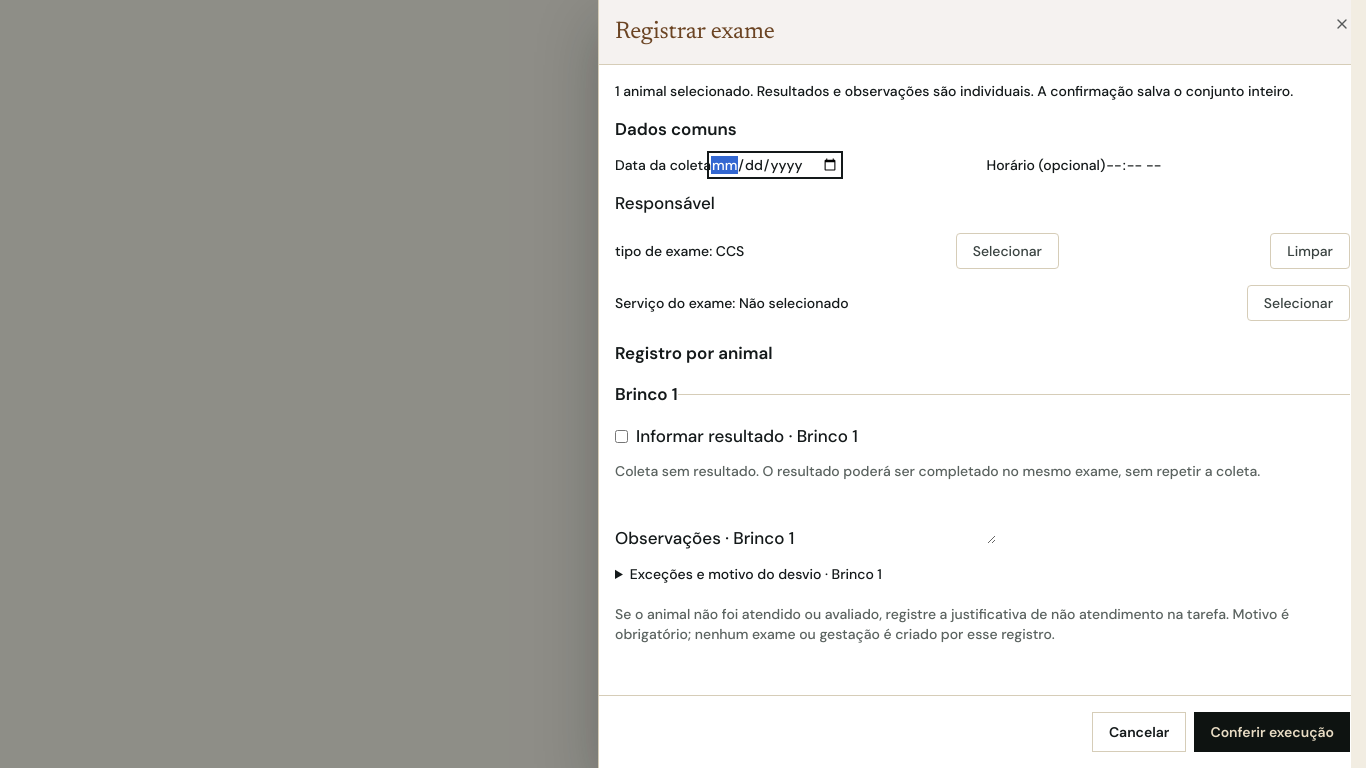
Scenario: retry após falha de rede conserva chave e confirmação é única para o conjunto
The width and height of the screenshot is (1366, 768).
Expected: the text "tipo de exame: CCS" is shown, [615, 241, 744, 261]
Type "2026-10-21" into the date field labelled "Data da coleta" at (775, 164), box [711, 154, 839, 174]
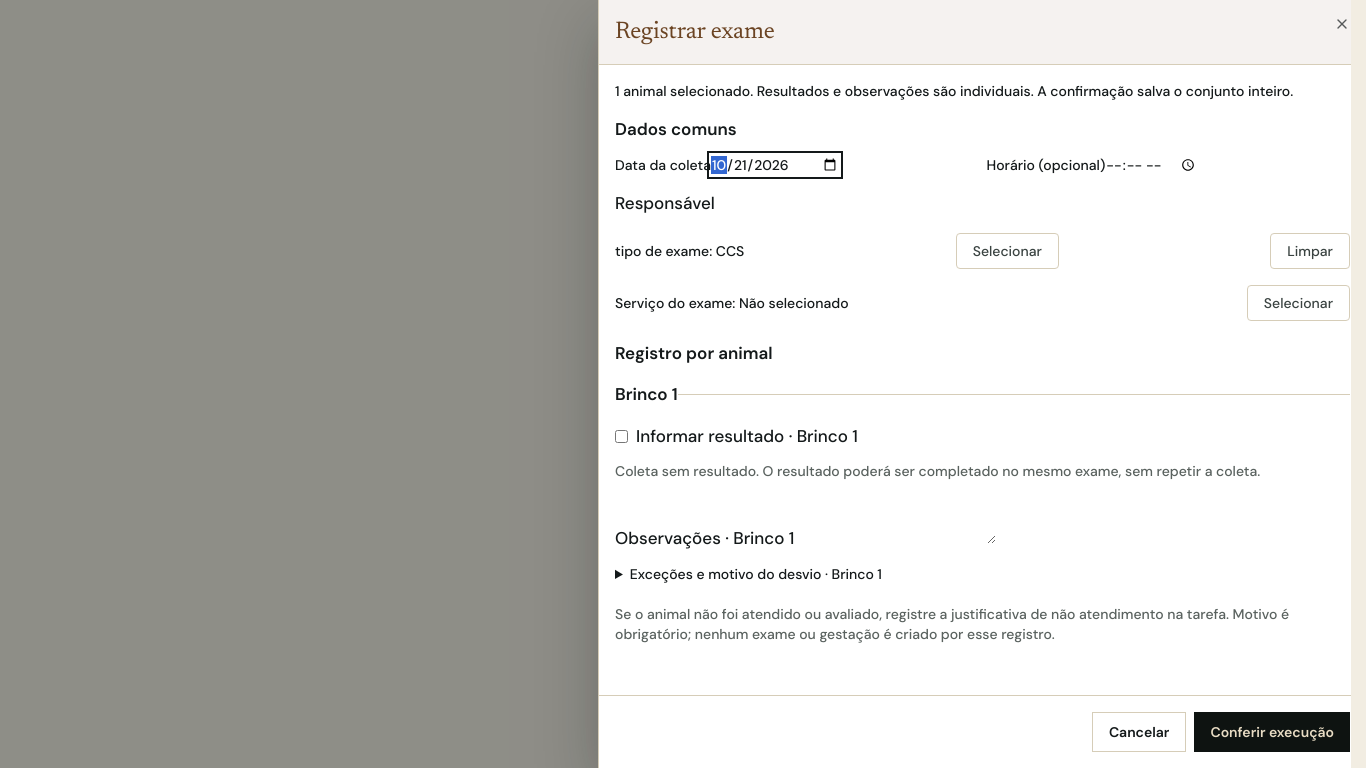
Click the button "Conferir execução" at (1272, 732), box [1194, 712, 1350, 752]
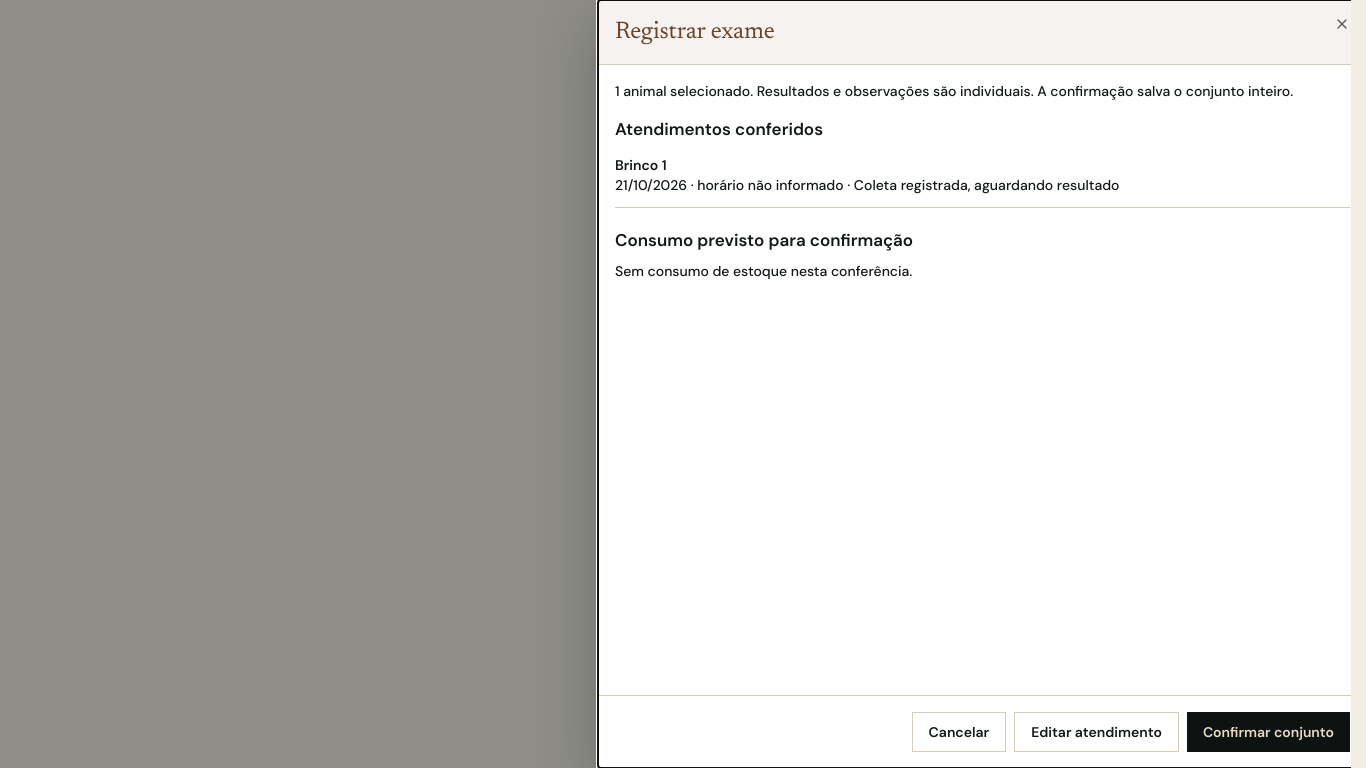
Click the button "Confirmar conjunto" at (1268, 732), box [1187, 712, 1350, 752]
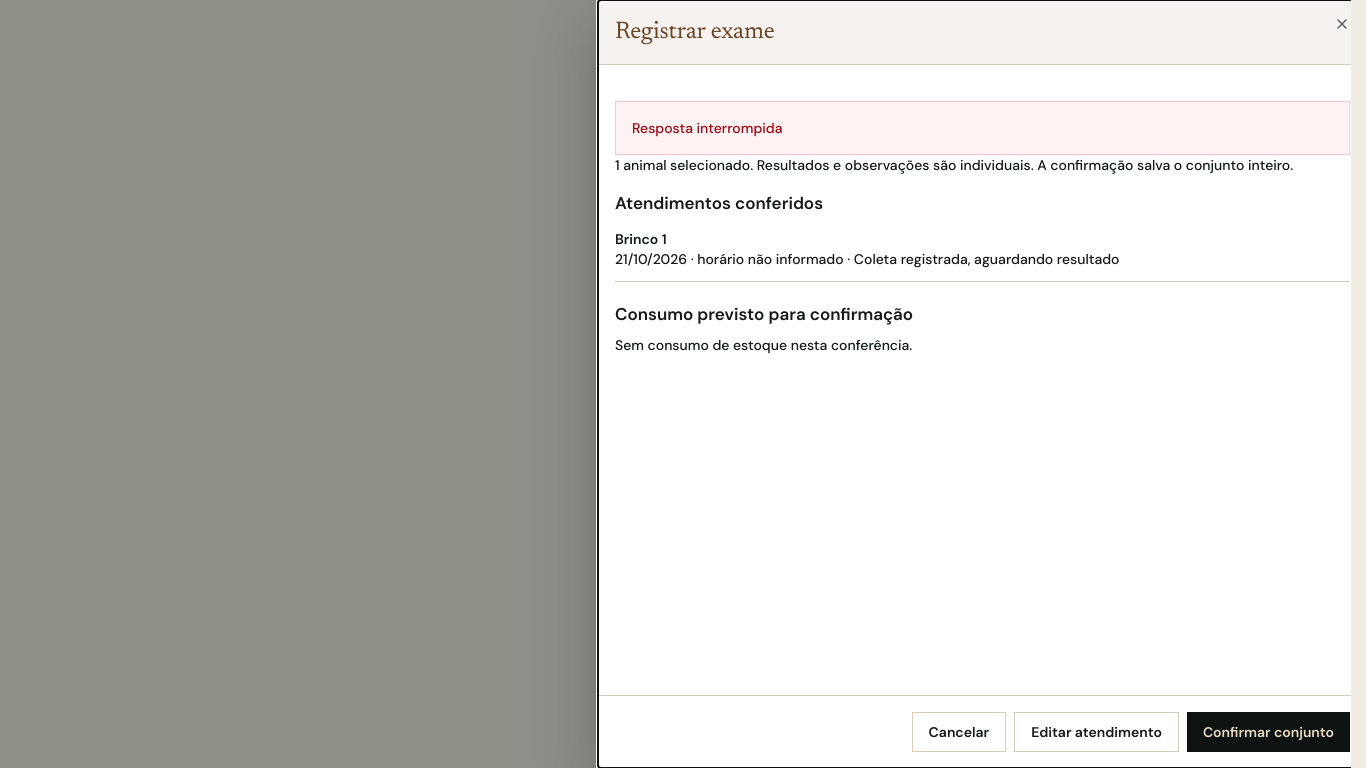
Expected: the text "Resposta interrompida" is shown, [615, 101, 1350, 155]
Click the button "Confirmar conjunto" at (1268, 732), box [1187, 712, 1350, 752]
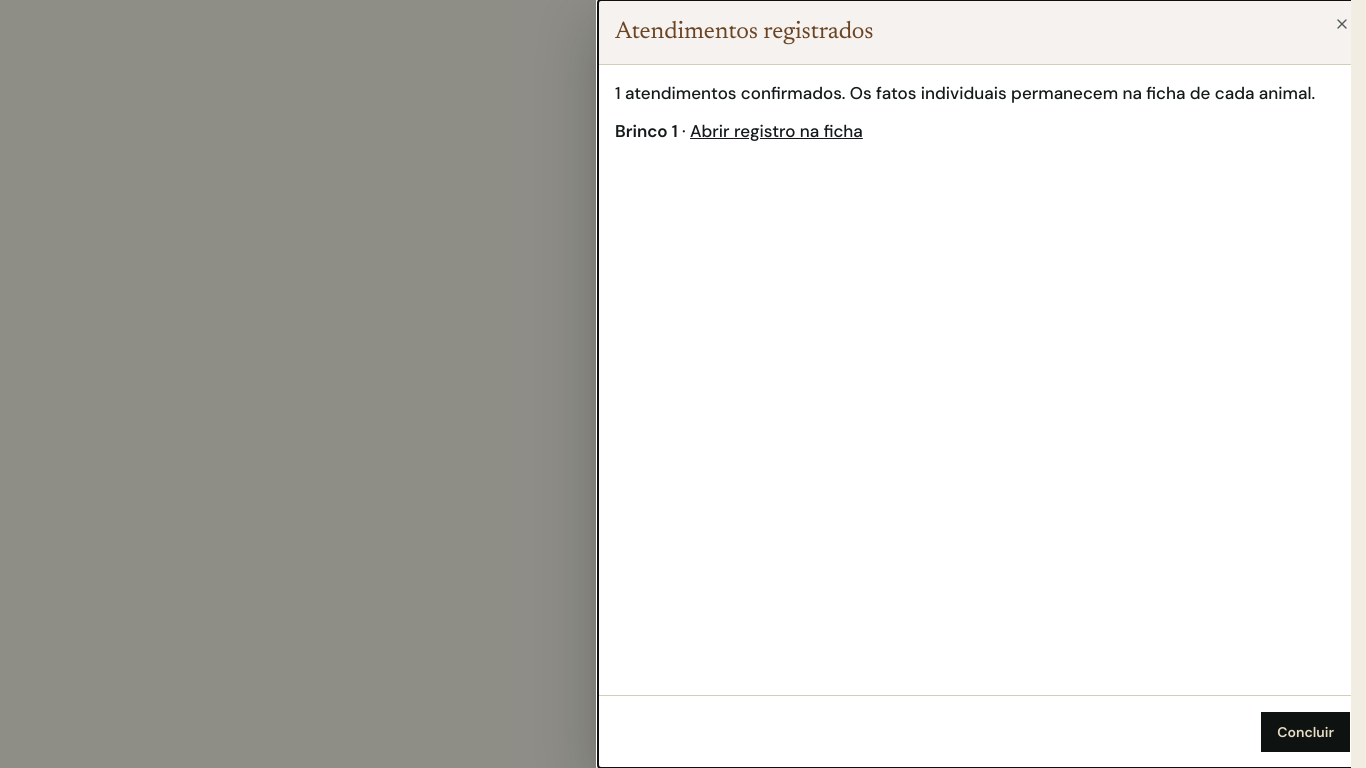
Expected: the heading "Atendimentos registrados" is shown, [615, 16, 874, 48]
